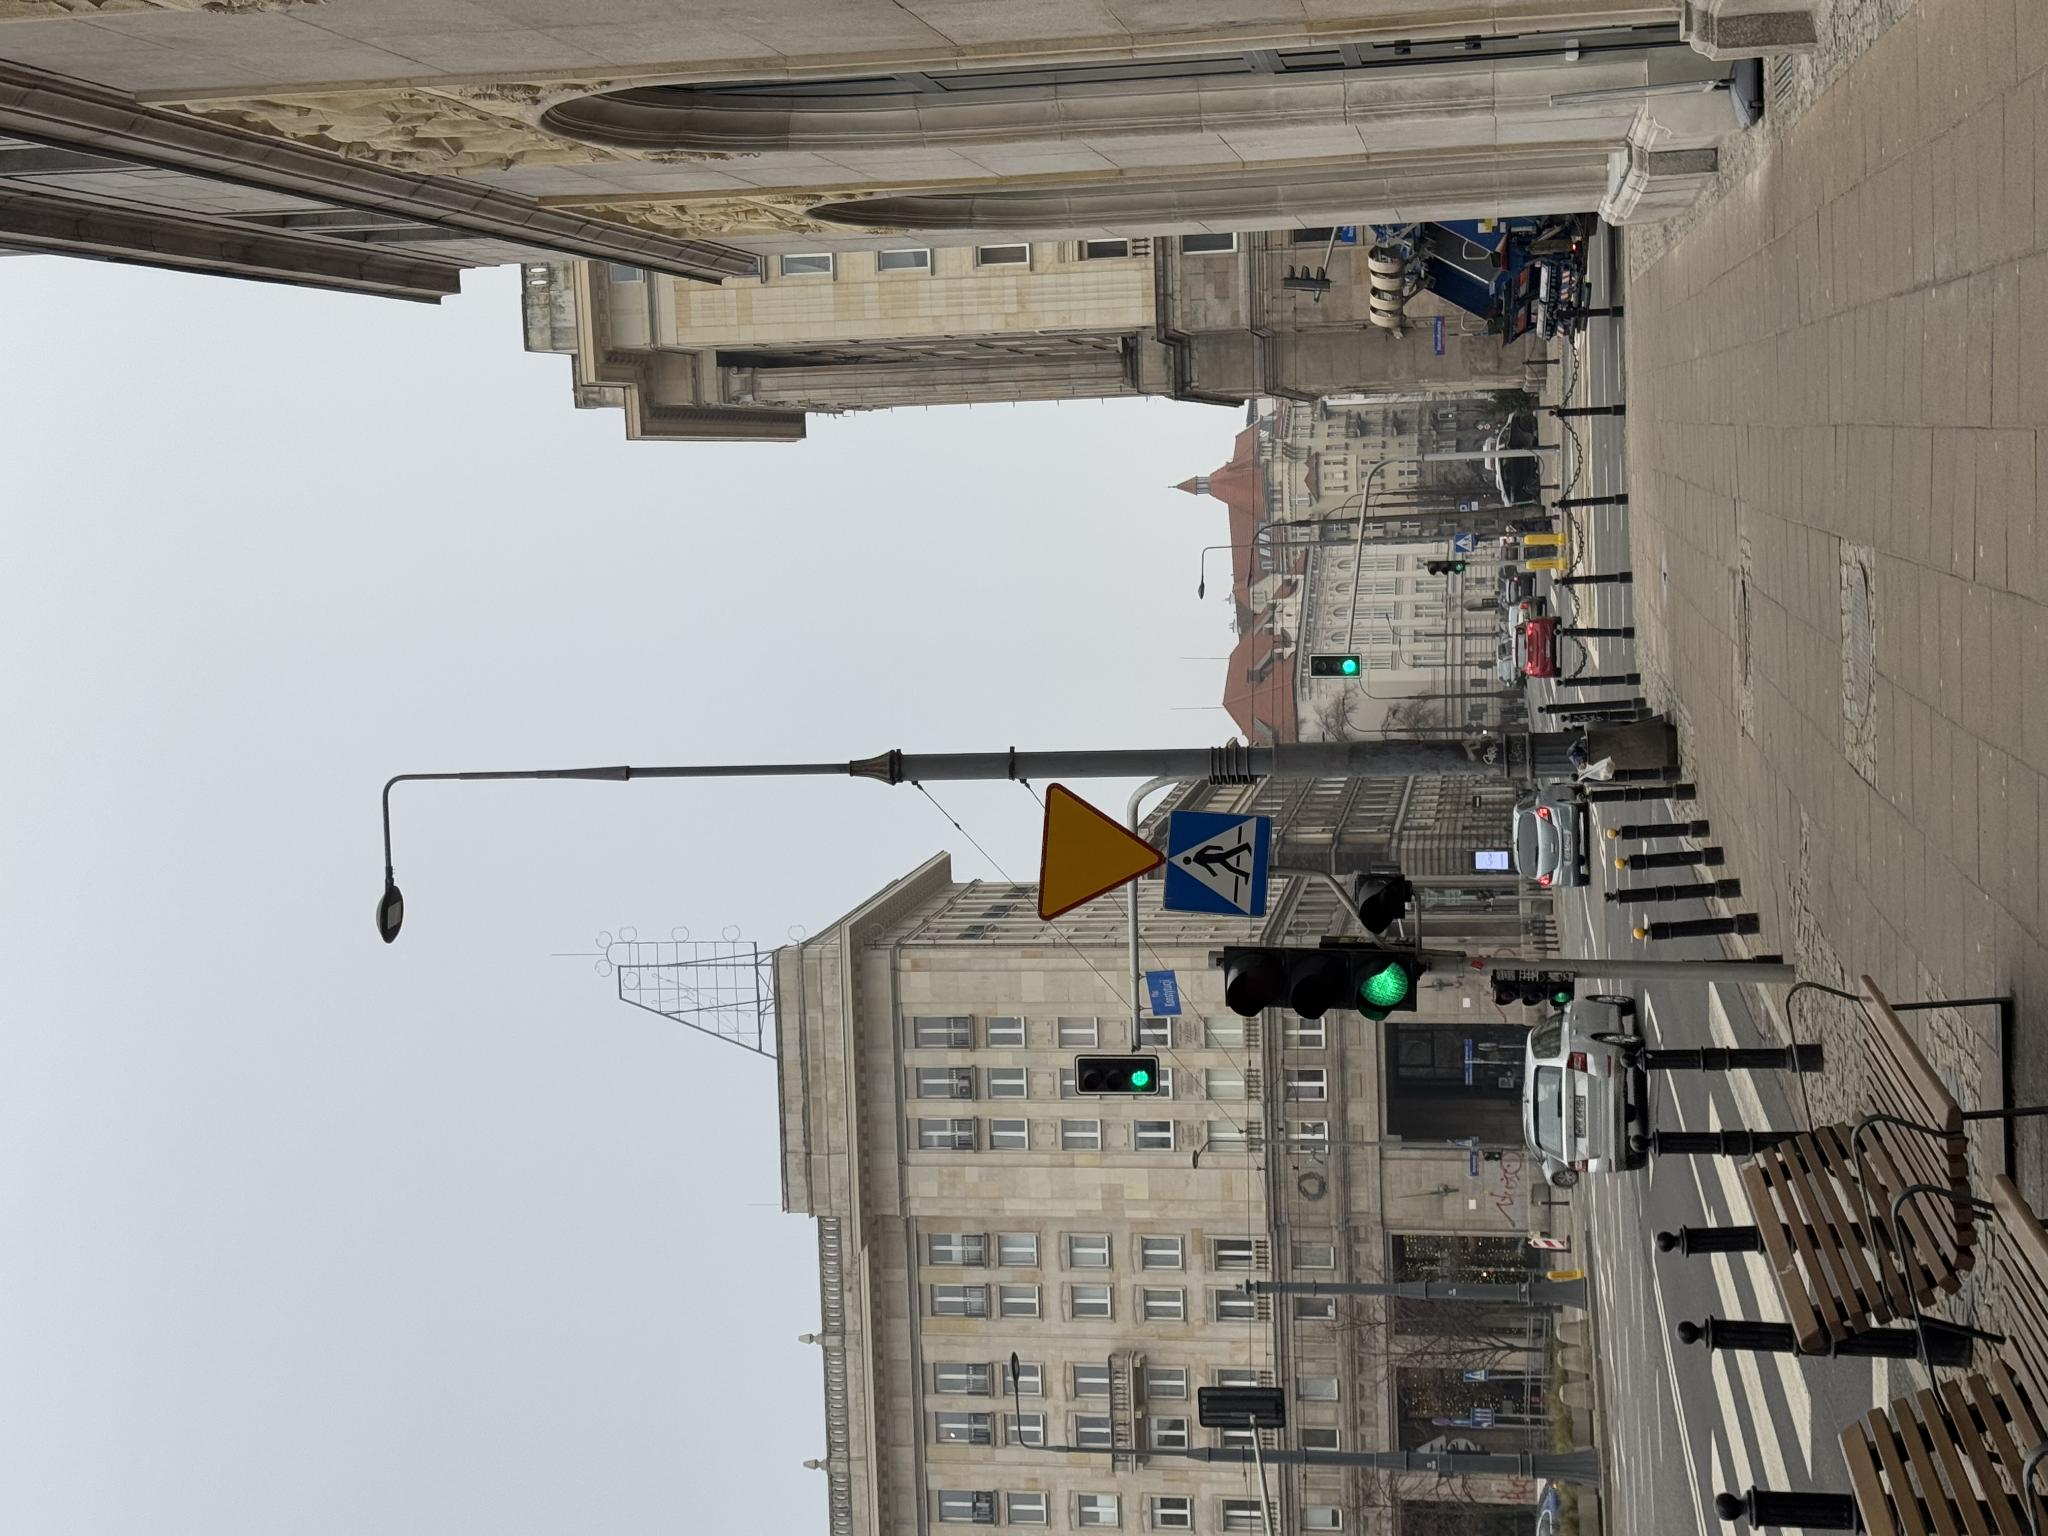information: (618, 1162, 722, 1271), (984, 1454, 1003, 1476), (155, 1463, 168, 1489)
warning: (614, 1036, 755, 1167)
